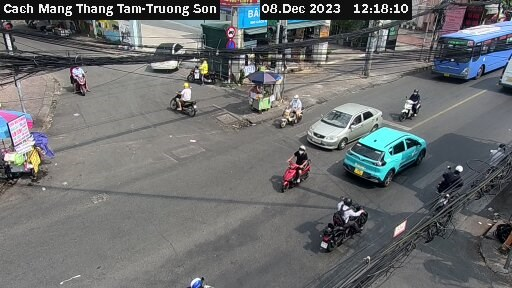bus: (429, 20, 512, 75)
car: (345, 128, 431, 184), (305, 99, 385, 145)
dog: (149, 37, 187, 80)
motorbike: (311, 198, 395, 259), (276, 148, 319, 193), (161, 88, 209, 127), (437, 166, 476, 211), (55, 66, 101, 101), (400, 87, 444, 123), (273, 97, 310, 125)
